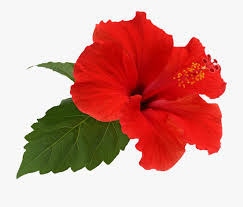hybiscus: (72, 12, 228, 175)
